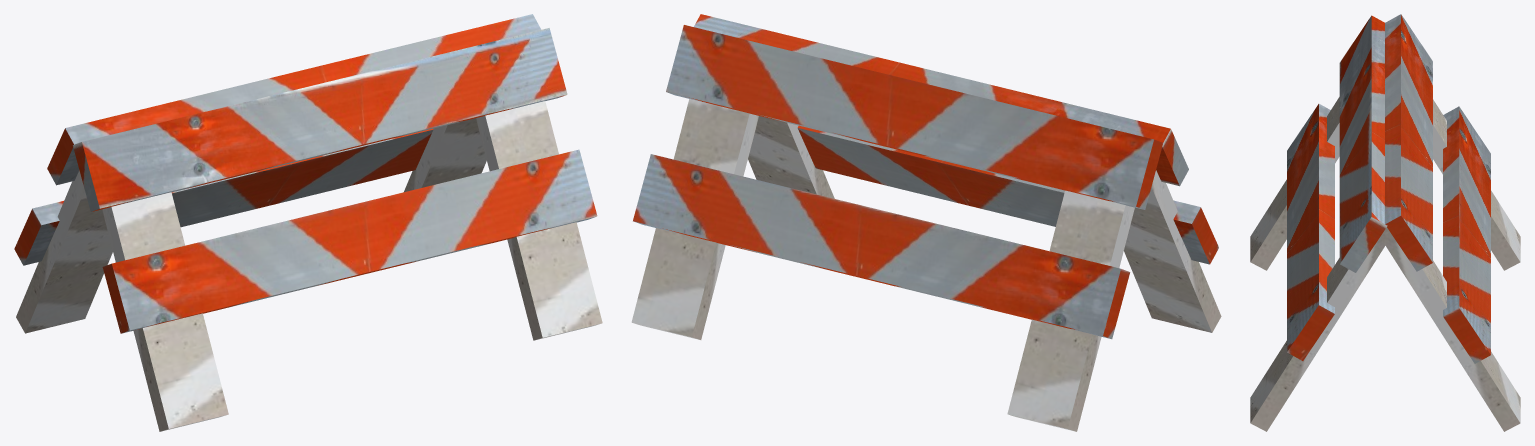
Rendered from Roadblock.glb.
3 renders of one model, left to right at view 1: azimuth 30°, elevation 25°; view 2: azimuth 150°, elevation 25°; view 3: azimuth 270°, elevation 25°, orthographic. The views are drawn at different scales.
Parts seen in each view (by area): view 1: Cube, Cube.007, Cube.003, Cube.001, Cube.006, Cube.005, Cube.002, Cube.004; view 2: Cube.005, Cube.006, Cube.007, Cube.004, Cube.002, Cube, Cube.001, Cube.003; view 3: Cube.005, Cube.006, Cube, Cube.007, Cube.004, Cube.003, Cube.001, Cube.002.
Boxes of the visible parts, x1,y1,x2,y2 form: Cube: [73, 28, 567, 211]; Cube.007: [102, 149, 597, 333]; Cube.003: [476, 101, 602, 340]; Cube.001: [102, 192, 228, 431]; Cube.006: [14, 128, 433, 265]; Cube.005: [47, 14, 541, 185]; Cube.002: [16, 170, 112, 333]; Cube.004: [404, 118, 486, 192]; Cube.005: [666, 25, 1162, 209]; Cube.006: [633, 154, 1130, 339]; Cube.007: [797, 125, 1218, 264]; Cube.004: [631, 99, 758, 339]; Cube.002: [1007, 190, 1134, 431]; Cube: [694, 14, 1188, 186]; Cube.001: [1124, 170, 1221, 332]; Cube.003: [748, 116, 834, 198]; Cube.005: [1385, 14, 1432, 271]; Cube.006: [1443, 106, 1490, 363]; Cube: [1339, 15, 1387, 272]; Cube.007: [1287, 104, 1334, 360]; Cube.004: [1380, 227, 1520, 431]; Cube.003: [1250, 230, 1387, 431]; Cube.001: [1250, 97, 1339, 270]; Cube.002: [1433, 99, 1520, 270].
Bounding box in the file's own units: 8.3 × 4.29 × 4.7.
2 materials, 2 textured.
